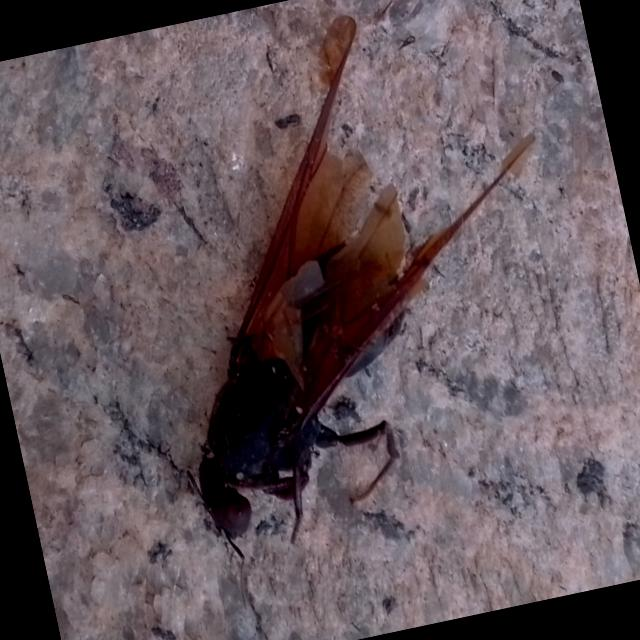Dead-Female-Alate: (100, 0, 610, 569)
